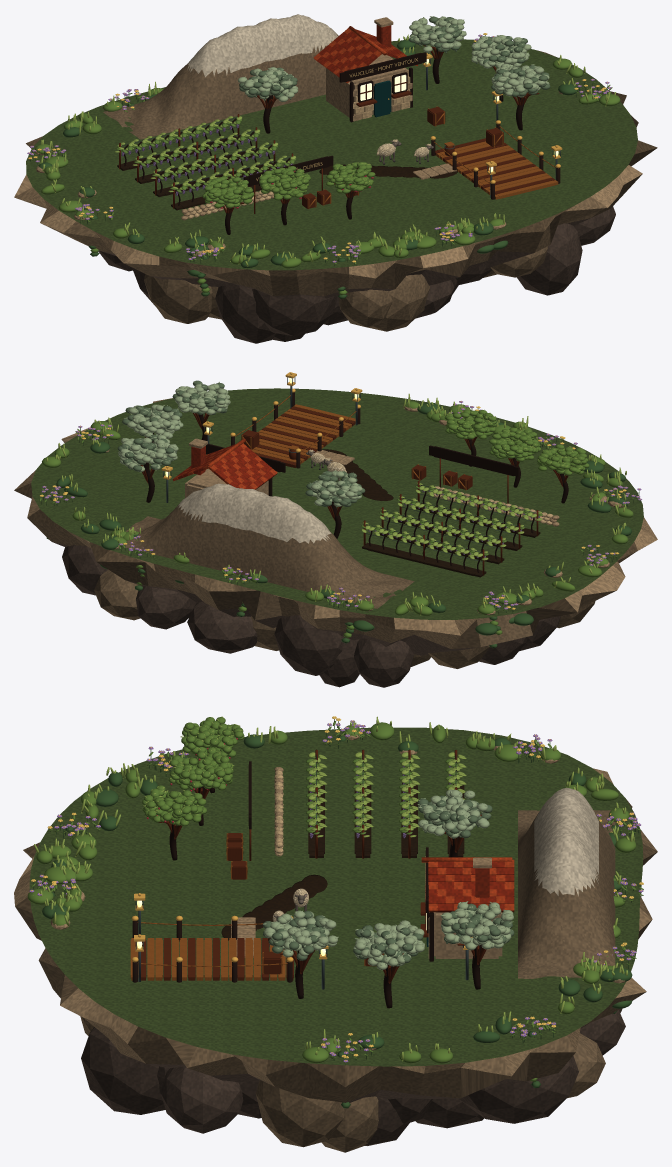
Rendered from farm.glb.
3 views of the same model, one above another, from view 1: azimuth 30°, elevation 25°; view 2: azimuth 150°, elevation 25°; view 3: azimuth 270°, elevation 25° (orthographic). The views are drawn at different scales.
Visible parts, largest first — view 1: GEO-farm-meadow, GEO-farm-rockLight, GEO-farm-rock, GEO-farm-leaf, GEO-farm-stone, GEO-farm-ventouxLimestone, GEO-farm-leafLight, GEO-farm-darkwood, GEO-farm-oliveLeaf, GEO-farm-wood, GEO-farm-leafDark, GEO-farm-oak (+11 smaller); view 2: GEO-farm-meadow, GEO-farm-rockLight, GEO-farm-rock, GEO-farm-leaf, GEO-farm-stone, GEO-farm-leafLight, GEO-farm-ventouxLimestone, GEO-farm-oliveLeaf, GEO-farm-leafDark, GEO-farm-darkwood, GEO-farm-wood, GEO-farm-soil (+9 smaller); view 3: GEO-farm-meadow, GEO-farm-rockLight, GEO-farm-rock, GEO-farm-leaf, GEO-farm-stone, GEO-farm-leafLight, GEO-farm-oliveLeaf, GEO-farm-ventouxLimestone, GEO-farm-leafDark, GEO-farm-wood, GEO-farm-oliveDark, GEO-farm-oak (+8 smaller).
Boxes of the visible parts, box(x1,y1,x2,y2) form: GEO-farm-meadow: box(26, 39, 637, 270); GEO-farm-rockLight: box(17, 34, 656, 331); GEO-farm-rock: box(98, 206, 615, 343); GEO-farm-leaf: box(29, 46, 620, 295); GEO-farm-stone: box(14, 17, 657, 278); GEO-farm-ventouxLimestone: box(187, 14, 337, 77); GEO-farm-leafLight: box(40, 33, 615, 266); GEO-farm-darkwood: box(123, 48, 560, 234); GEO-farm-oliveLeaf: box(237, 16, 549, 101); GEO-farm-wood: box(119, 45, 554, 213); GEO-farm-leafDark: box(29, 35, 609, 298); GEO-farm-oak: box(308, 106, 558, 209); GEO-farm-meadow: box(31, 388, 643, 619); GEO-farm-rockLight: box(27, 440, 645, 668); GEO-farm-rock: box(52, 542, 560, 687); GEO-farm-leaf: box(39, 401, 639, 637); GEO-farm-stone: box(14, 398, 657, 635); GEO-farm-leafLight: box(46, 393, 626, 615); GEO-farm-ventouxLimestone: box(177, 483, 331, 543); GEO-farm-oliveLeaf: box(118, 381, 362, 506); GEO-farm-leafDark: box(41, 402, 640, 648); GEO-farm-darkwood: box(143, 392, 568, 572); GEO-farm-wood: box(136, 406, 568, 575); GEO-farm-soil: box(322, 449, 540, 577); GEO-farm-meadow: box(29, 727, 643, 1066); GEO-farm-rockLight: box(15, 772, 657, 1152); GEO-farm-rock: box(81, 1008, 625, 1145); GEO-farm-leaf: box(27, 717, 643, 1081); GEO-farm-stone: box(14, 727, 657, 1086); GEO-farm-leafLight: box(34, 716, 635, 1061); GEO-farm-oliveLeaf: box(262, 789, 513, 970); GEO-farm-ventouxLimestone: box(534, 787, 598, 896); GEO-farm-leafDark: box(31, 719, 641, 1108); GEO-farm-wood: box(141, 749, 486, 983); GEO-farm-oliveDark: box(263, 795, 514, 966); GEO-farm-oak: box(130, 833, 384, 980).
Bounding box in the file's own units: 38.53 × 13.23 × 29.11.
36 materials, 18 textured.
